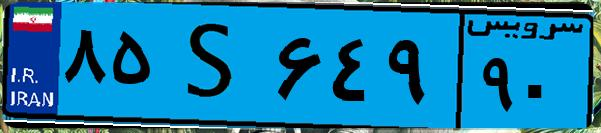0: (525, 38, 570, 115)
4: (330, 28, 385, 110)
5: (110, 28, 158, 98)
6: (270, 28, 330, 110)
8: (57, 26, 110, 100)
9: (385, 28, 445, 110), (475, 38, 525, 113)
S: (158, 12, 270, 120)
